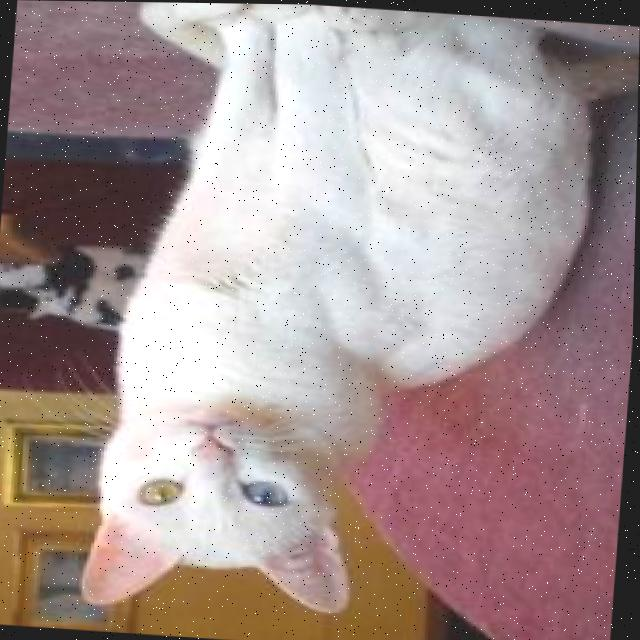Khao Manee: (66, 1, 614, 640)
